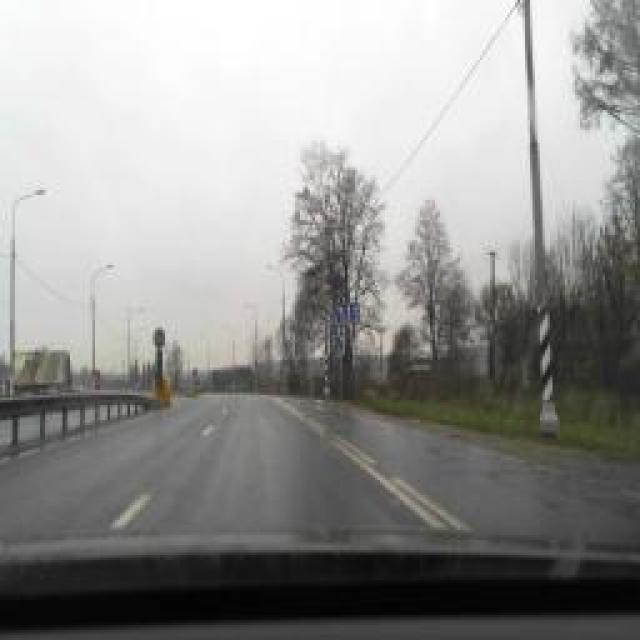sign: (336, 302, 359, 322), (335, 324, 347, 344)
